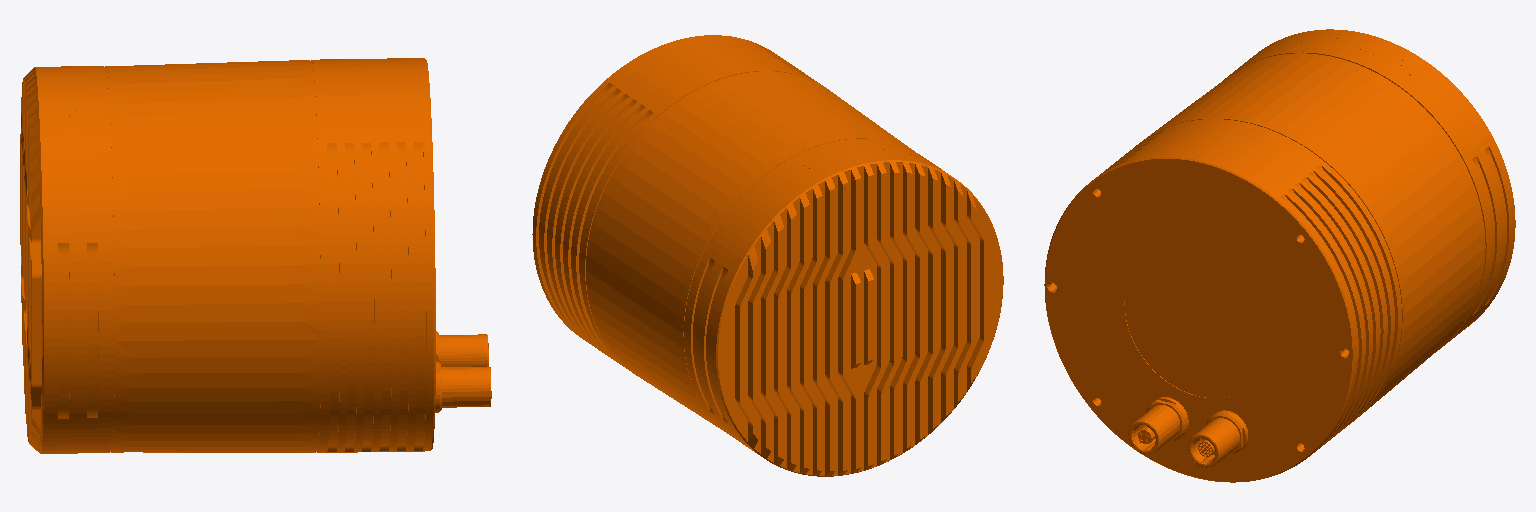
robot.urdf — nissan_leaf:
<?xml version="1.0"?>
<robot name="nissan_leaf">
  <link name="veh_link">
    <visual>
      <origin rpy="0 0 0" xyz="0 0 0.0016"/>
      <geometry>
        <mesh filename="package://bluespace_ai_xsens_mti_driver/urdf/nissan_leaf.dae" scale="1 1 1"/>
      </geometry>
      <material name="xsens_orange">
        <color rgba="0.92 0.45 0.02 1.0"/>
      </material>
    </visual>
  </link>

  <link name="imu_link">
    <visual>
      <origin rpy="-1.57079632679 0 1.57079632679" xyz="0 0 0.0016"/>
      <geometry>
        <mesh filename="package://bluespace_ai_xsens_mti_driver/urdf/MTi_6xx.stl" scale="0.01 0.01 0.01"/>
      </geometry>
      <material name="xsens_orange">
        <color rgba="0.92 0.45 0.02 1.0"/>
      </material>
    </visual>
  </link>

  <link name="rslidar">
    <visual>
      <origin rpy="0 0 0.5411" xyz="0 0 0.07425"/>
      <geometry>
        <mesh filename="package://bluespace_ai_xsens_mti_driver/urdf/rs-ruby.dae" scale="0.002 0.002 0.002"/>
      </geometry>
      <material name="xsens_orange">
        <color rgba="0.92 0.45 0.02 1.0"/>
      </material>
    </visual>
  </link>

  <joint name="veh_joint" type="fixed">
    <parent link="imu_link"/>
    <child link="veh_link"/>
    <origin rpy="0 0 0" xyz="0 0 0.0016"/>
  </joint>

    <joint name="RS_joint" type="fixed">
      <!-- <xacro:insert_block name="origin"/> -->
      <parent link="imu_link"/>
      <child link="rslidar"/>
      <origin rpy="0 0 0.5411" xyz="0 0 0.07425"/>
    </joint>
</robot>

--- What the picture shows (computed from the rendered views, not written in the file) ---
The picture shows the robot from 3 angles, left to right: view 1: azimuth 30°, elevation 25°; view 2: azimuth 150°, elevation 25°; view 3: azimuth 270°, elevation 25°; orthographic projection.
Robot: nissan_leaf — 3 links, 2 joints (2 fixed); root link imu_link; default pose: all joints at 0.
Visible links, largest first — view 1: rslidar; view 2: rslidar; view 3: rslidar.
Boxes of the visible links, x1,y1,x2,y2 form: rslidar: (20, 58, 491, 453); rslidar: (532, 35, 1003, 476); rslidar: (1044, 29, 1515, 482).
Bounding box of the posed robot: 0.3362 × 0.3354 × 0.25 m (x, y, z).
Meshes: 3 distinct files referenced, 1 mesh visuals loaded (1 Collada DAE); not drawn: 2 (reference not matched to a file when rendering).